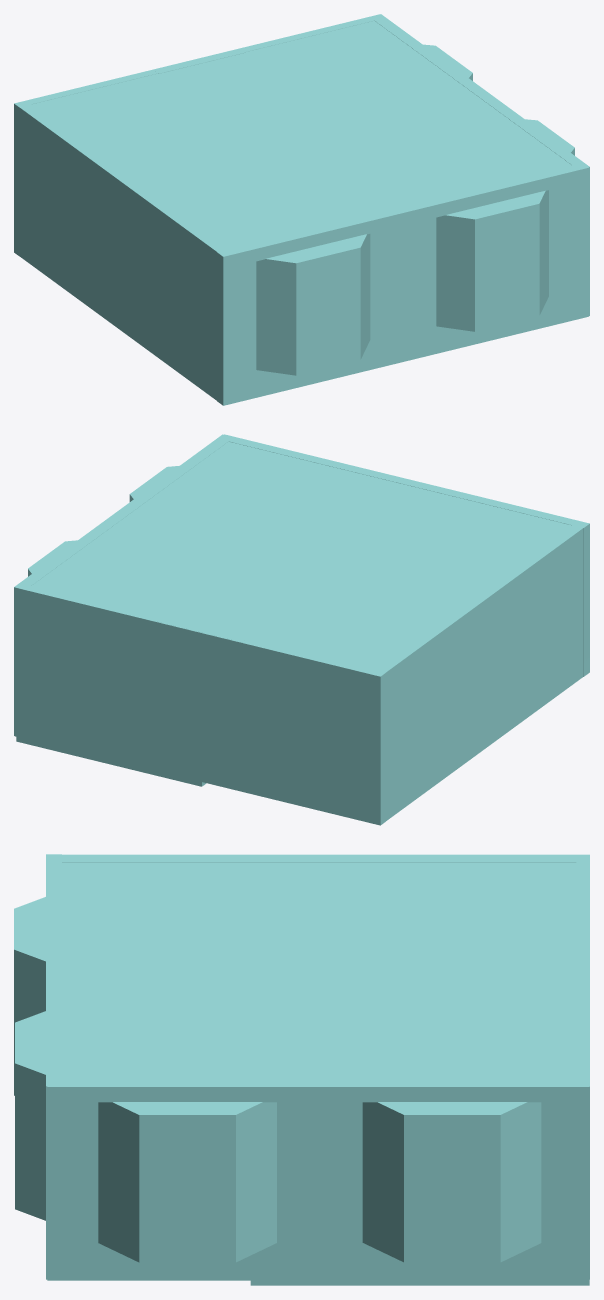
Rendered from FYP_musicroom_greybox.fbx.
The picture shows the model from 3 angles, top to bottom: view 1: azimuth 30°, elevation 25°; view 2: azimuth 150°, elevation 25°; view 3: azimuth 270°, elevation 25°; orthographic projection. The views are drawn at different scales.
Parts seen in each view (by area): view 1: ceiling, wall01, wall04, bay_window_01, bay_window_02, wall03, wall02, secret_passage; view 2: ceiling, wall02, wall01, wall04, wall03, dance_floor; view 3: ceiling, wall03, bay_window_04, bay_window_03, bay_window_02, wall01, wall04, bay_window_01, wall02, dance_floor, secret_passage.
Part boxes in pixels (box(x1,y1,x2,y2)): ceiling: box(31, 21, 571, 249); wall01: box(14, 101, 234, 400); wall04: box(217, 163, 588, 405); bay_window_01: box(256, 234, 370, 375); bay_window_02: box(436, 190, 548, 331); wall03: box(371, 14, 589, 315); wall02: box(14, 14, 383, 255); secret_passage: box(153, 49, 243, 73); ceiling: box(31, 441, 570, 669); wall02: box(15, 584, 385, 825); wall01: box(369, 521, 588, 821); wall04: box(219, 434, 589, 676); wall03: box(14, 434, 233, 735); dance_floor: box(16, 737, 206, 786); ceiling: box(62, 862, 576, 1079); wall03: box(47, 1079, 589, 1280); bay_window_04: box(362, 1102, 541, 1262); bay_window_03: box(98, 1102, 276, 1262); bay_window_02: box(15, 1011, 45, 1220); wall01: box(47, 854, 589, 862); wall04: box(46, 854, 61, 1279); bay_window_01: box(14, 897, 45, 1095); wall02: box(576, 854, 589, 1279); dance_floor: box(250, 1280, 589, 1285); secret_passage: box(575, 942, 588, 996).
Bounding box in the file's own units: 270 × 103 × 268.
